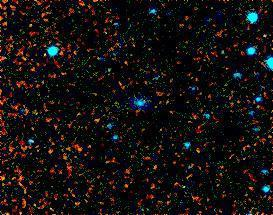star: (30, 41, 60, 71)
